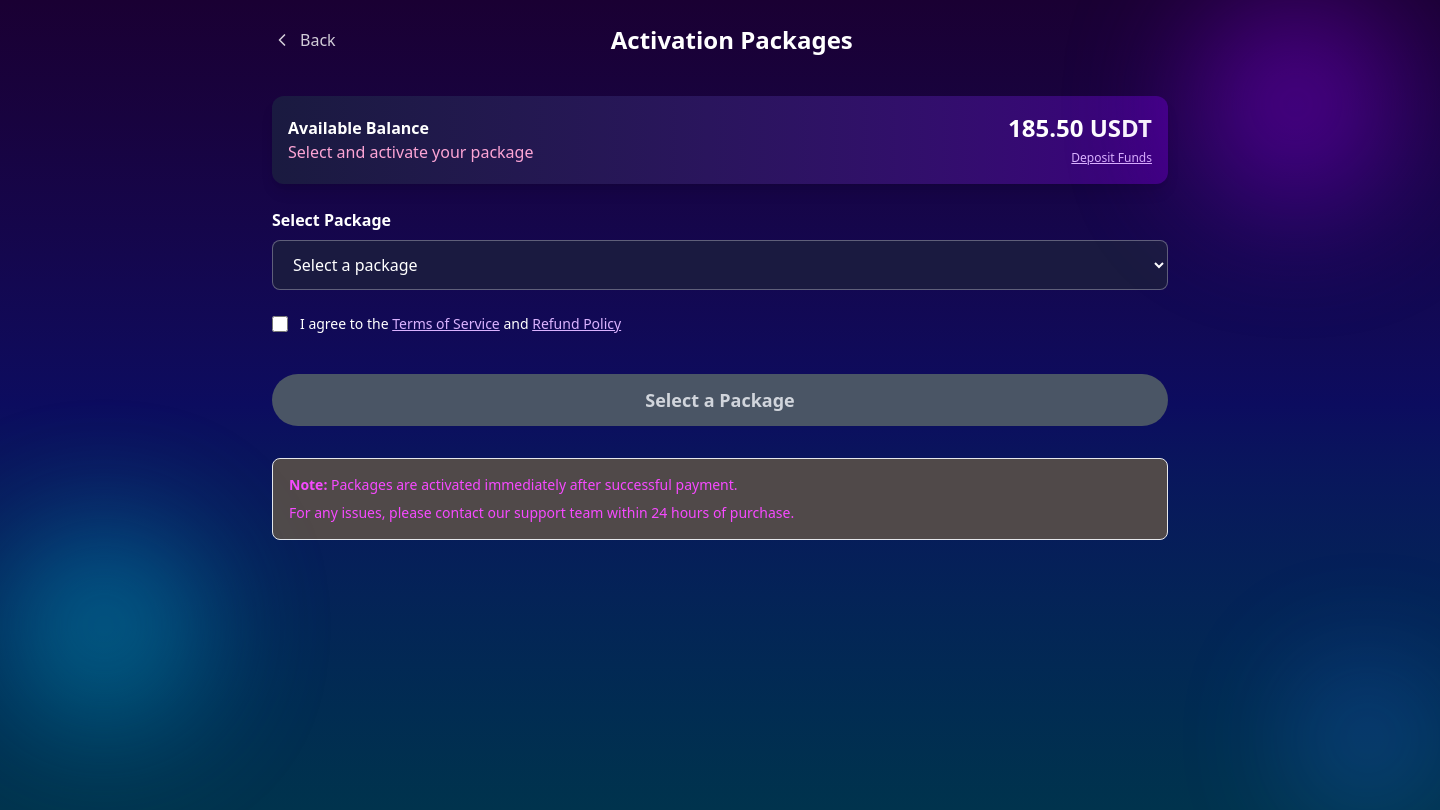
Scenario: ActivationPackage Component › purchase button updates after selecting package & terms
Select "Advanced Package - 150 USDT" in the dropdown labelled "Select Package": (720, 265) [272, 240, 1168, 290]
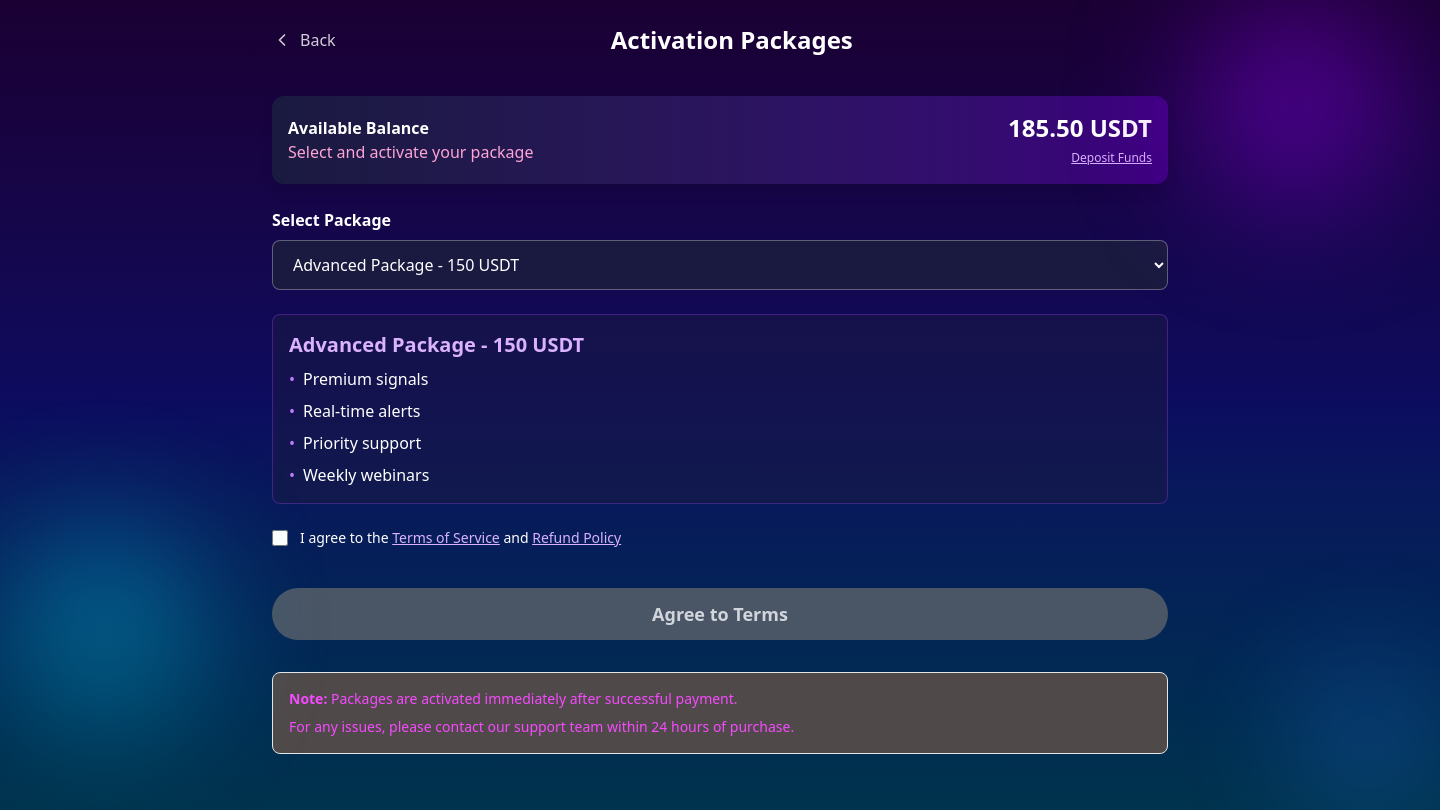
Click the checkbox labelled "I agree to the Terms of Service and Refund Policy": (280, 538) [272, 530, 288, 546]
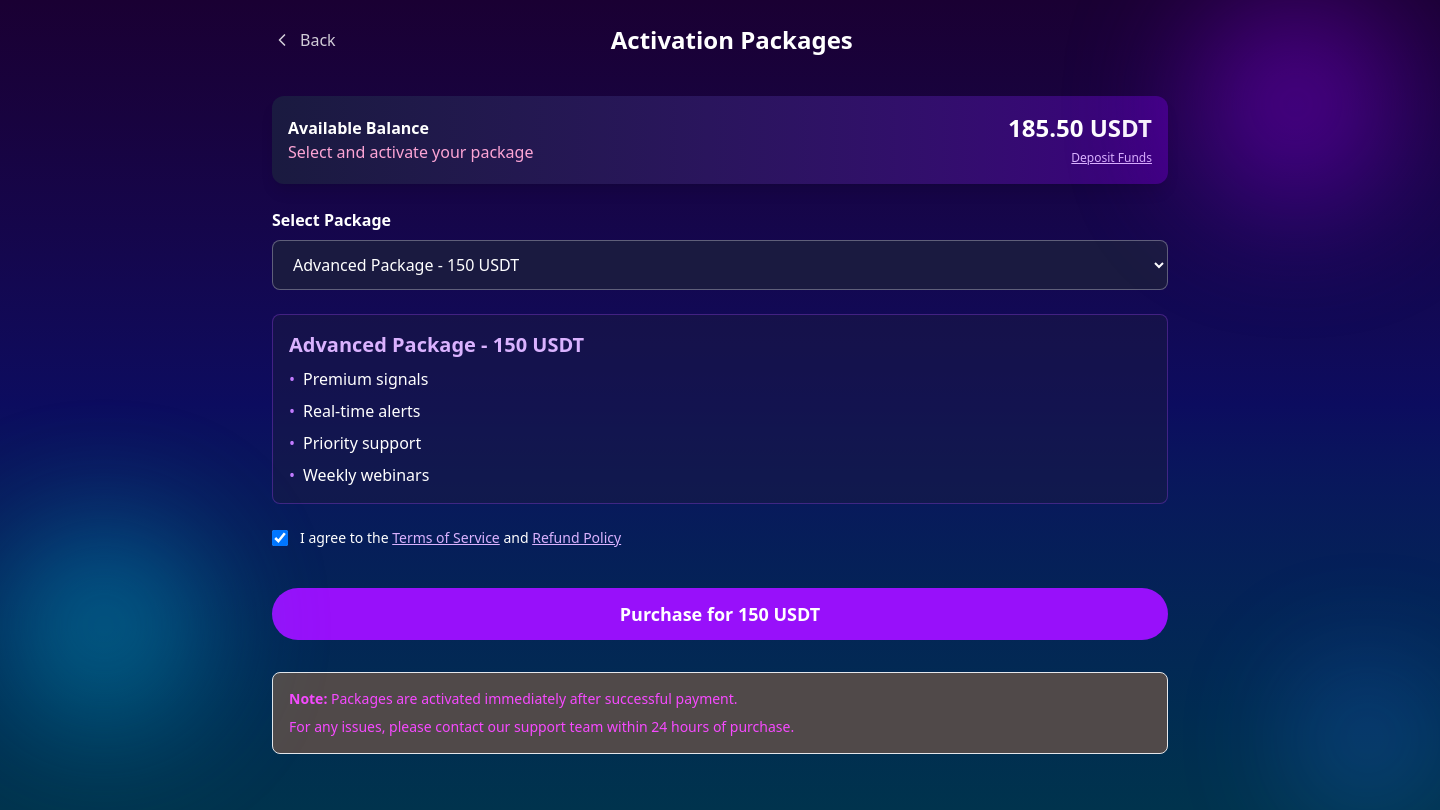
Check: the button "Purchase for 150 USDT" is enabled, box [272, 588, 1168, 640]
